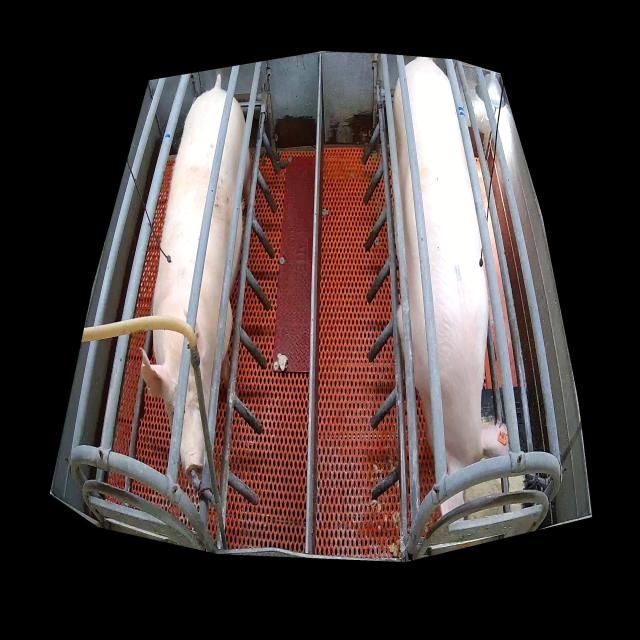pig: (393, 60, 509, 477), (142, 90, 251, 484)
